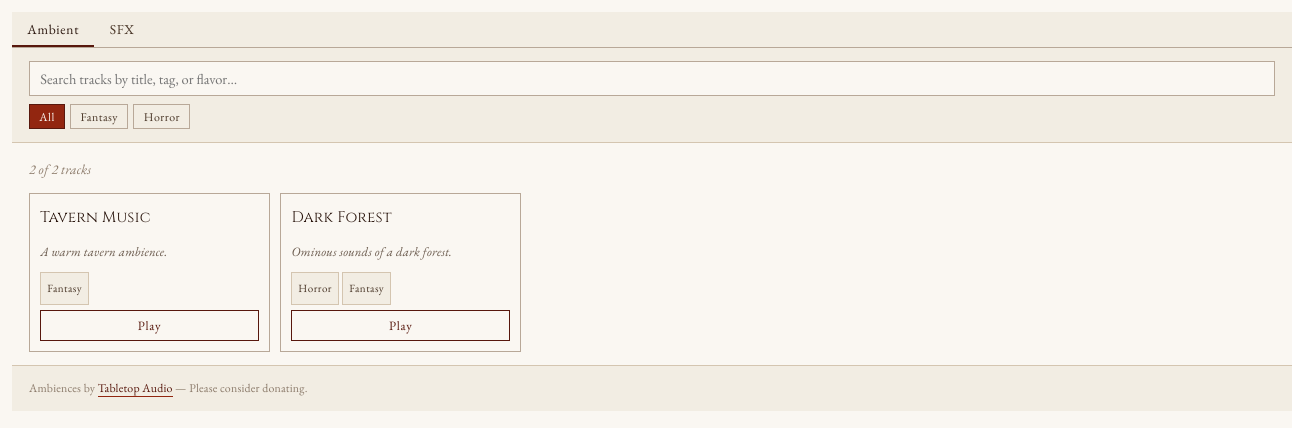
it: Soundboard SFX panel › clicking SFX tab hides the ambient catalog body
The width and height of the screenshot is (1292, 428).
Expected: the text "Tavern Music" is shown, [40, 207, 151, 228]
Click the button "SFX" at (122, 30), box [94, 12, 150, 47]
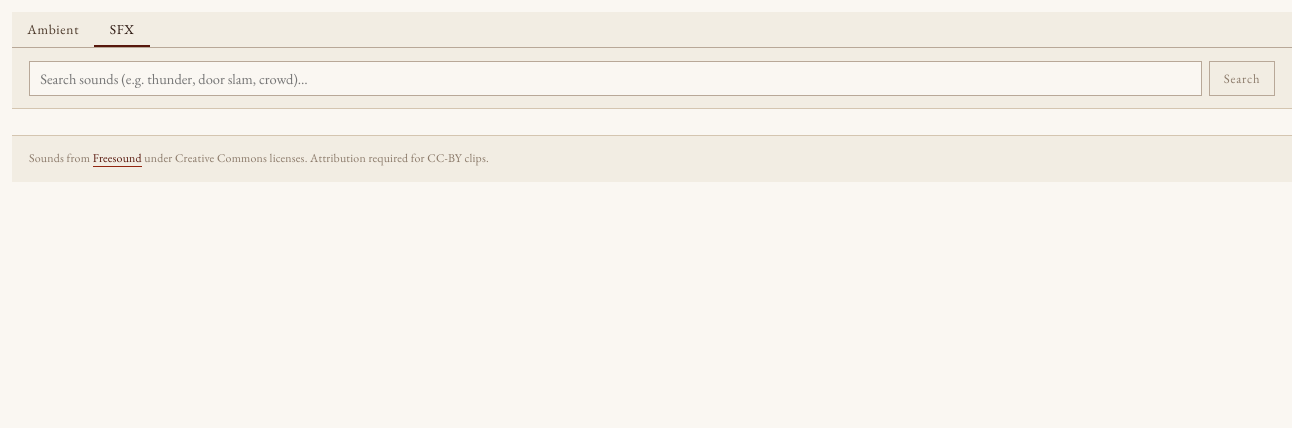
Result: the text "Tavern Music" is gone
